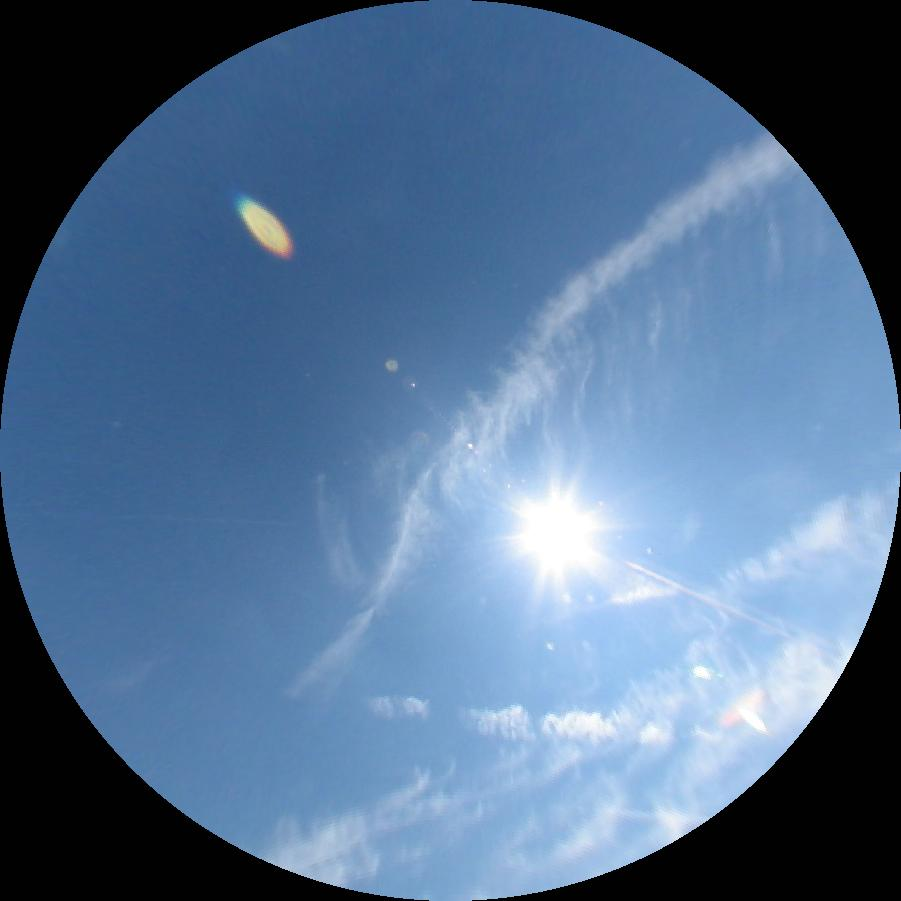contrail veryold: (285, 132, 799, 701), (314, 175, 862, 592), (258, 766, 465, 888), (367, 697, 666, 743)
parasite: (626, 562, 789, 637)
sun: (519, 494, 594, 568)
